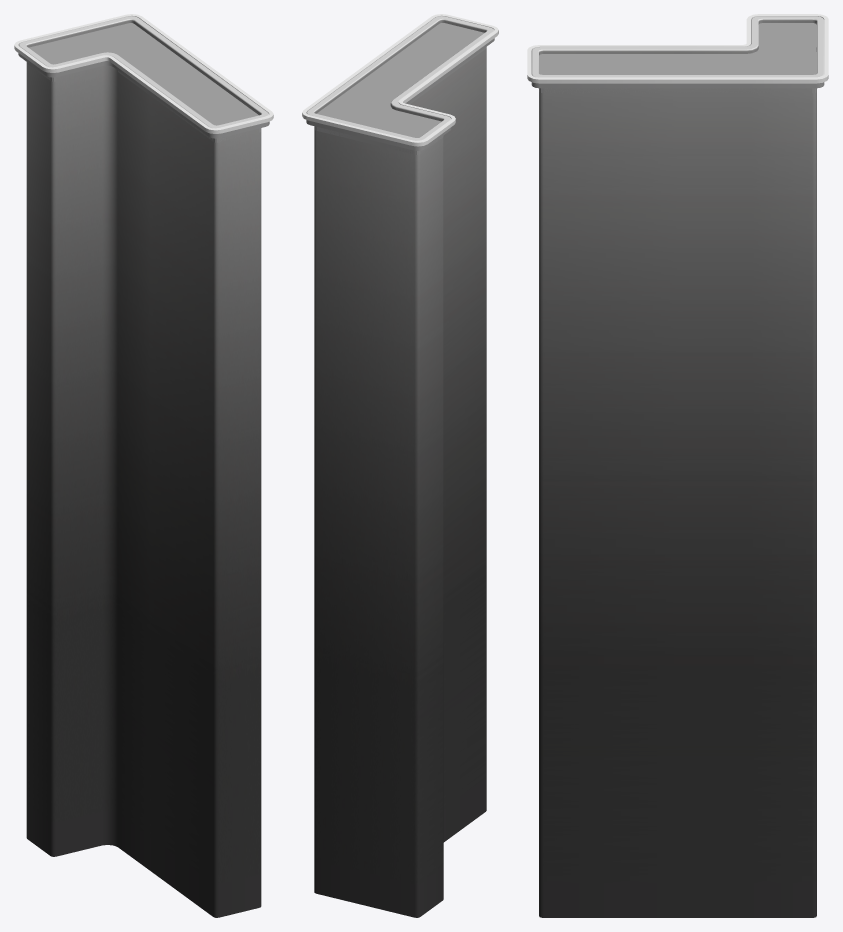
File: BLOCK_3D_L.fbx
3 renders of one model, left to right at view 1: azimuth 30°, elevation 25°; view 2: azimuth 150°, elevation 25°; view 3: azimuth 270°, elevation 25°, orthographic. The views are drawn at different scales.
Parts seen in each view (by area): view 1: L_4_1, L_4_1.001, OUTLINE; view 2: L_4_1, L_4_1.001, OUTLINE; view 3: L_4_1, L_4_1.001, OUTLINE.
Part boxes in pixels (box(x1,y1,x2,y2)): L_4_1: box(18, 16, 269, 917); L_4_1.001: box(26, 23, 261, 142); OUTLINE: box(14, 14, 273, 133); L_4_1: box(306, 16, 494, 917); L_4_1.001: box(314, 23, 486, 154); OUTLINE: box(302, 14, 498, 146); L_4_1: box(531, 16, 824, 917); L_4_1.001: box(539, 23, 816, 93); OUTLINE: box(527, 14, 828, 83).
Size of the model in its own units: 212 by 1270 by 412.
